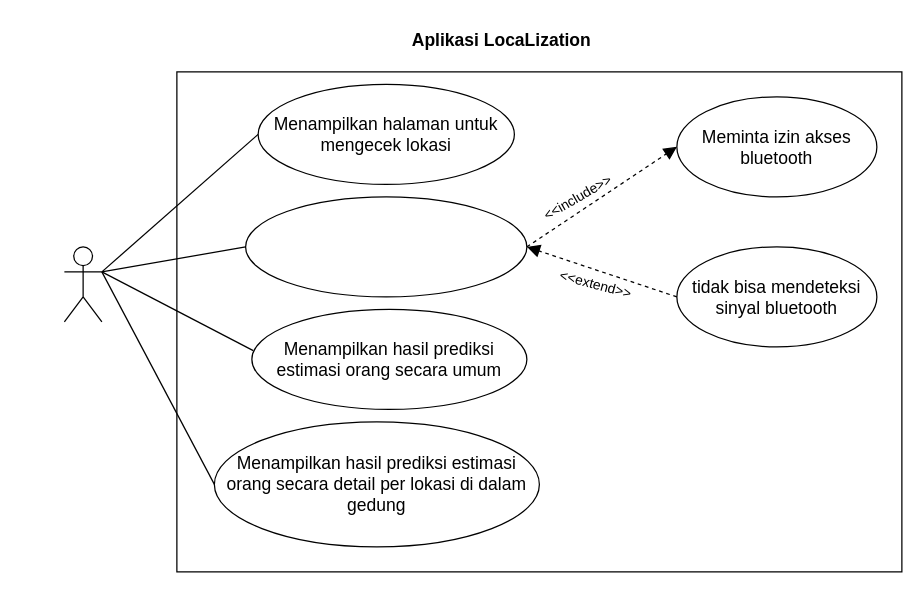
This 924x594 diagram has some shape labels left out. Each missing label, with the box of its shape:
Memprediksi lokasi dan estimasi orang dalam gedung: (244, 196, 527, 297)
Pengguna gedung FMIPA USK: (63, 246, 102, 322)
